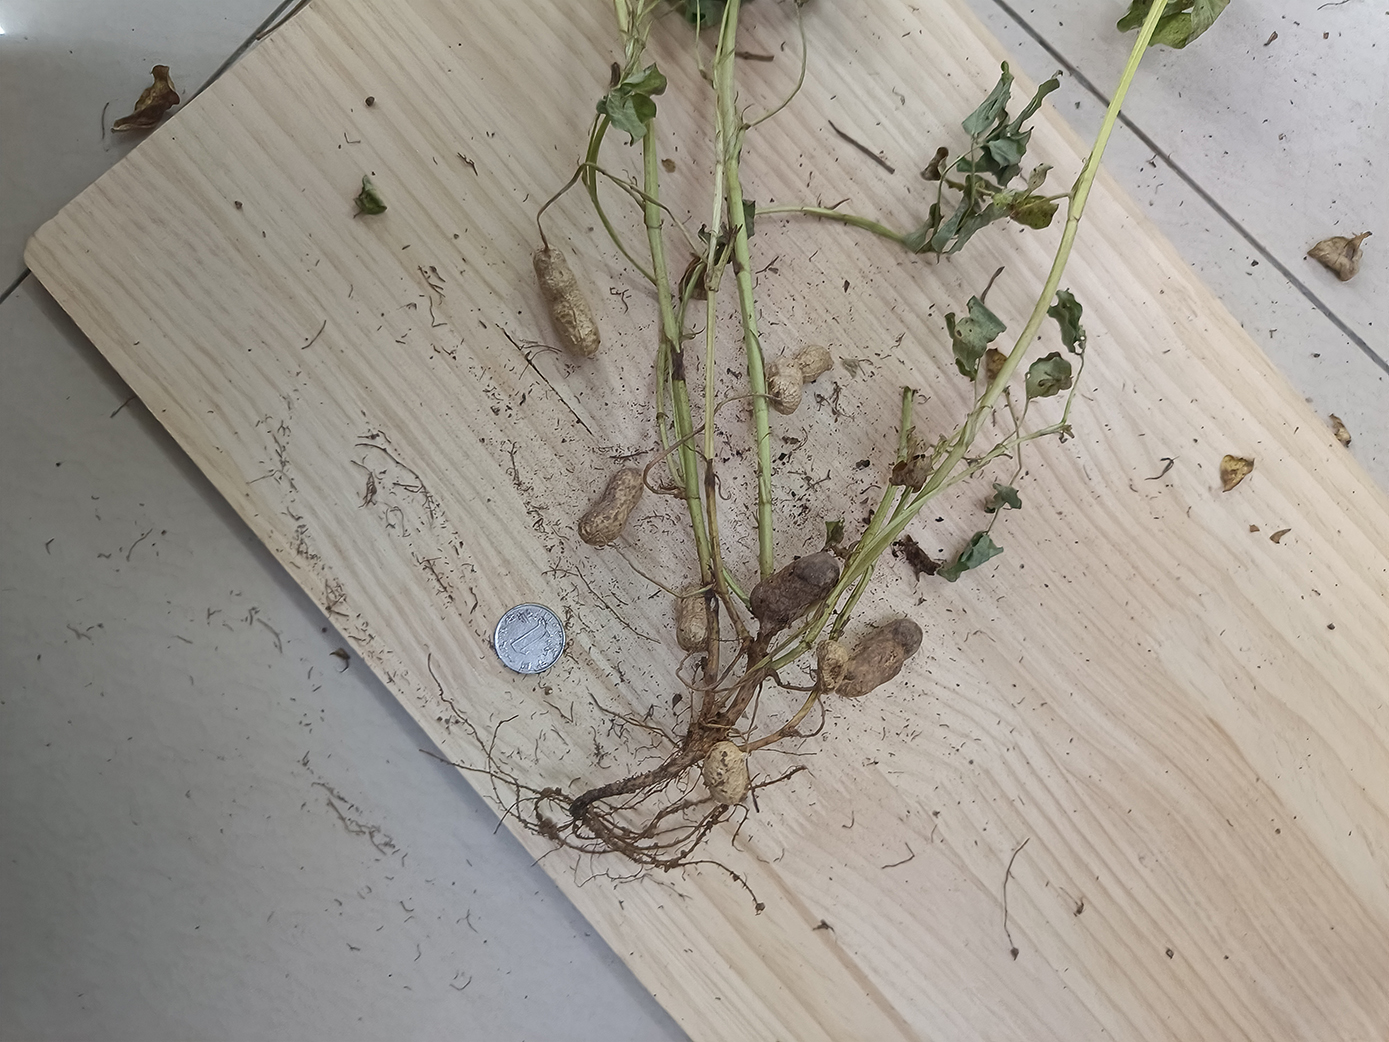h: (533, 245, 601, 356), (579, 466, 644, 542), (767, 345, 836, 414), (702, 741, 746, 804), (676, 584, 710, 649), (817, 638, 847, 695)
l: (749, 551, 840, 624), (846, 621, 923, 696)
